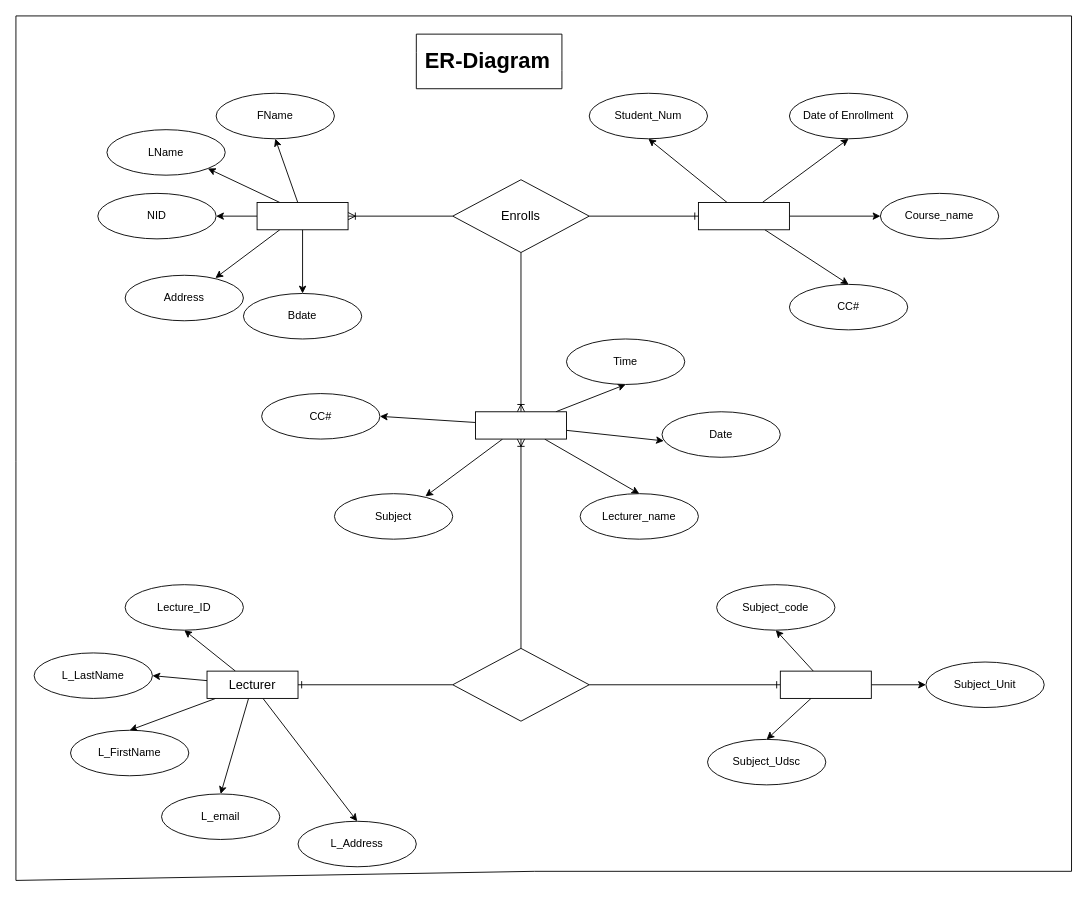
This 1088x897 diagram has some shape labels left out. Each missing label, with the centre of its shape:
"Enrollment" belongs at point 743,216.
"Lecture" belongs at point 520,425.
"Lectures" belongs at point 520,684.
"Students" belongs at point 302,216.
"Subjects" belongs at point 825,684.
